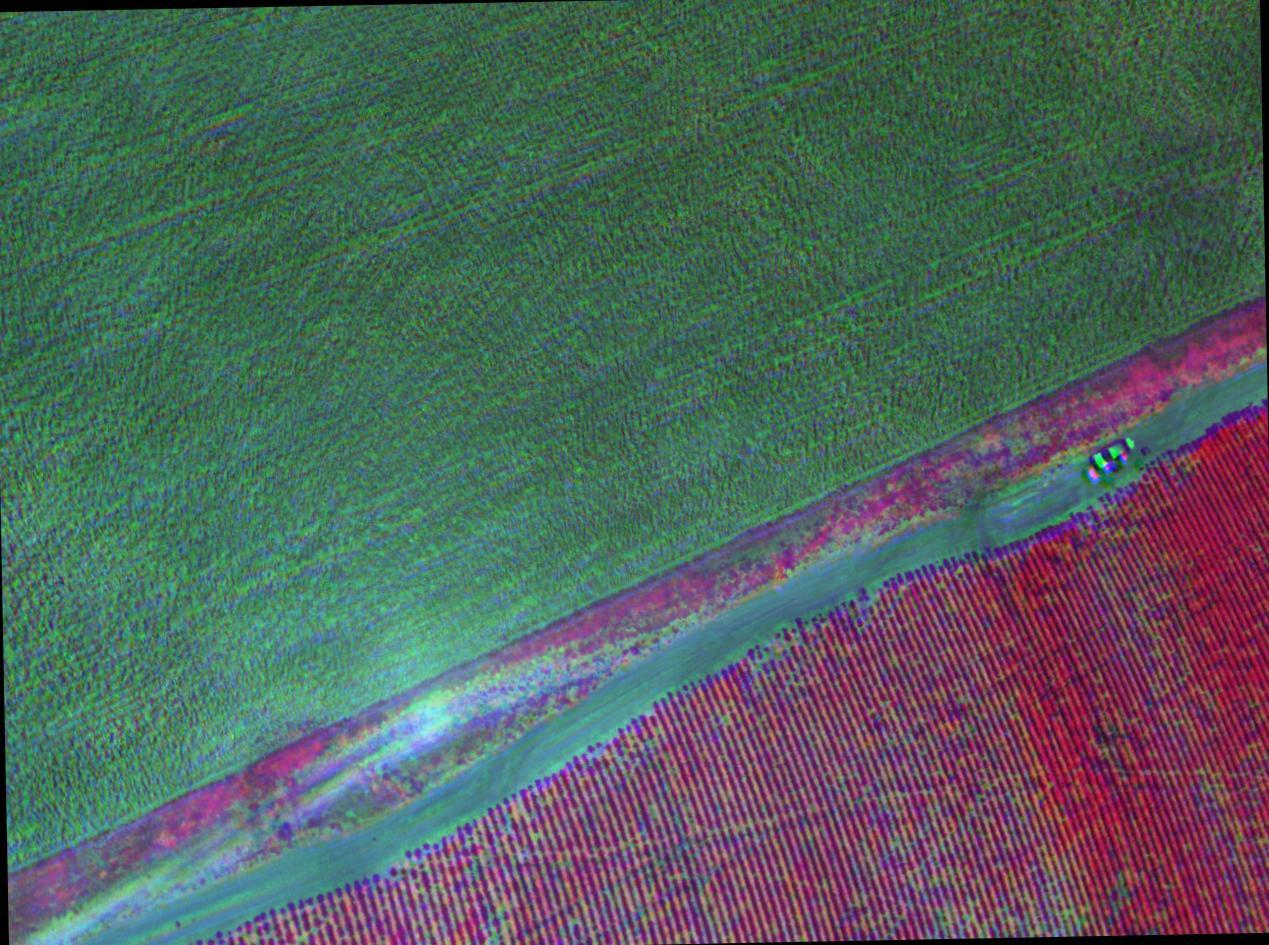dc: (480, 806, 548, 871), (750, 639, 816, 677), (927, 897, 990, 936), (452, 906, 514, 945), (1048, 897, 1095, 940)
